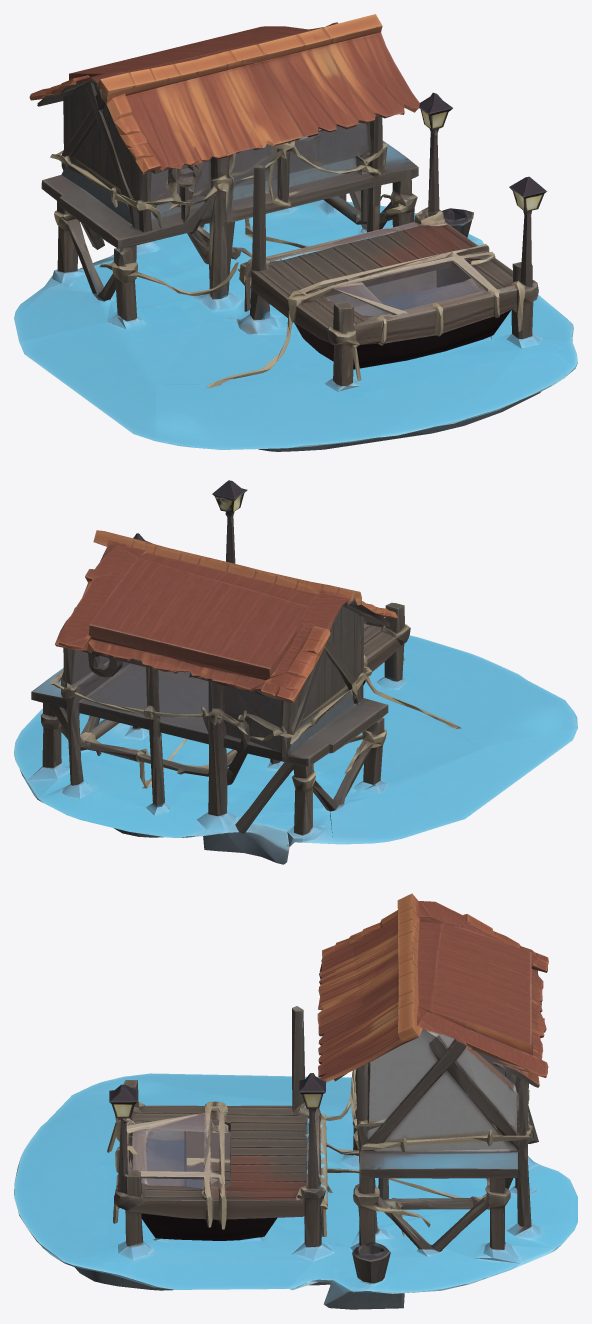
Rendered from boathouse.glb.
The picture shows the model from 3 angles, top to bottom: view 1: azimuth 30°, elevation 25°; view 2: azimuth 150°, elevation 25°; view 3: azimuth 270°, elevation 25°; orthographic projection. The views are drawn at different scales.
Parts seen in each view (by area): view 1: boathouse; view 2: boathouse; view 3: boathouse.
Boxes of the visible parts, x1=… form: boathouse: x1=14, y1=14, x2=577, y2=451; boathouse: x1=14, y1=480, x2=577, y2=864; boathouse: x1=14, y1=893, x2=577, y2=1309.
Bounding box in the file's own units: 9.35 × 5 × 10.16.
Materials: 1 (1 with a texture image).
